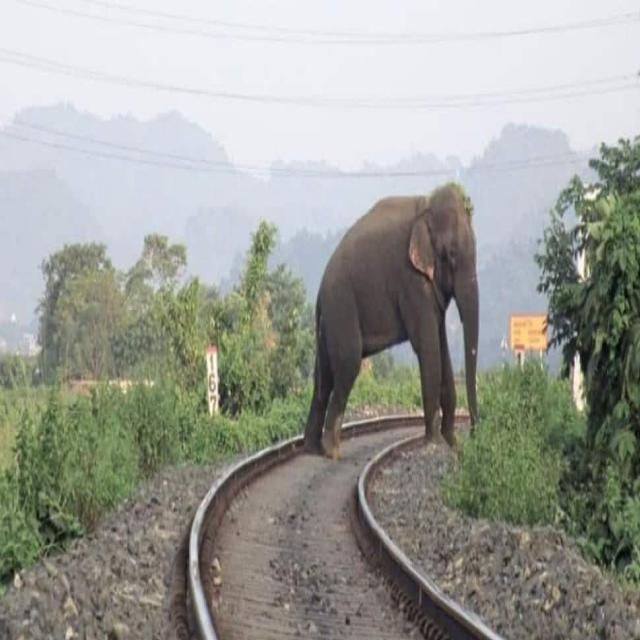Elephant: (303, 159, 488, 466)
